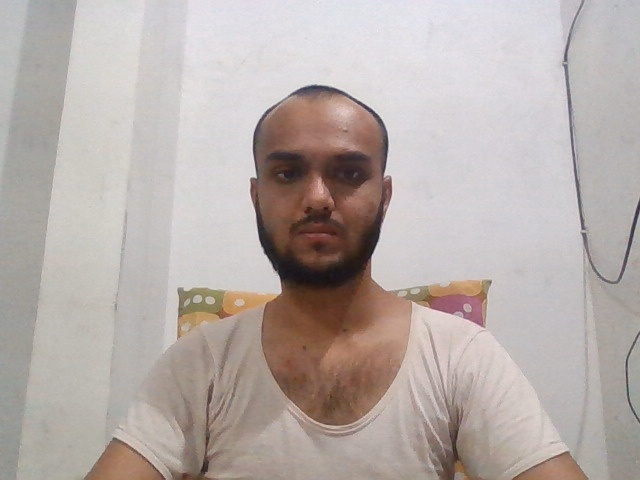face: (251, 85, 394, 286)
